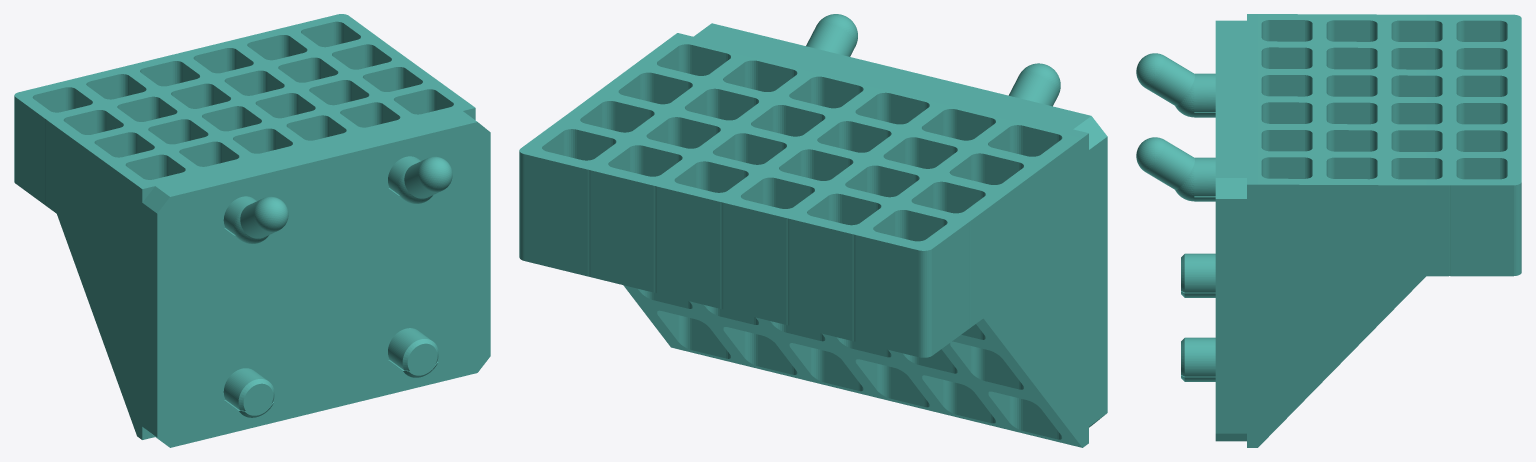
Rendered from part-arrays-p01-24__v-src276a5c7516__pegstr-array-p01-24-small-square-seats__installed__fit-9c7be3cc78.glb.
The picture shows the model from 3 angles, left to right: view 1: azimuth 30°, elevation 25°; view 2: azimuth 150°, elevation 25°; view 3: azimuth 270°, elevation 25°; orthographic projection. The views are drawn at different scales.
Parts seen in each view (by area): view 1: Actual holder mesh; view 2: Actual holder mesh; view 3: Actual holder mesh.
Part boxes in pixels (x1,y1,x2,y2): Actual holder mesh: [14, 14, 490, 447]; Actual holder mesh: [519, 14, 1107, 447]; Actual holder mesh: [1136, 14, 1521, 447].
Bounding box in the file's own units: 0.0516 × 0.0374 × 0.0492.
